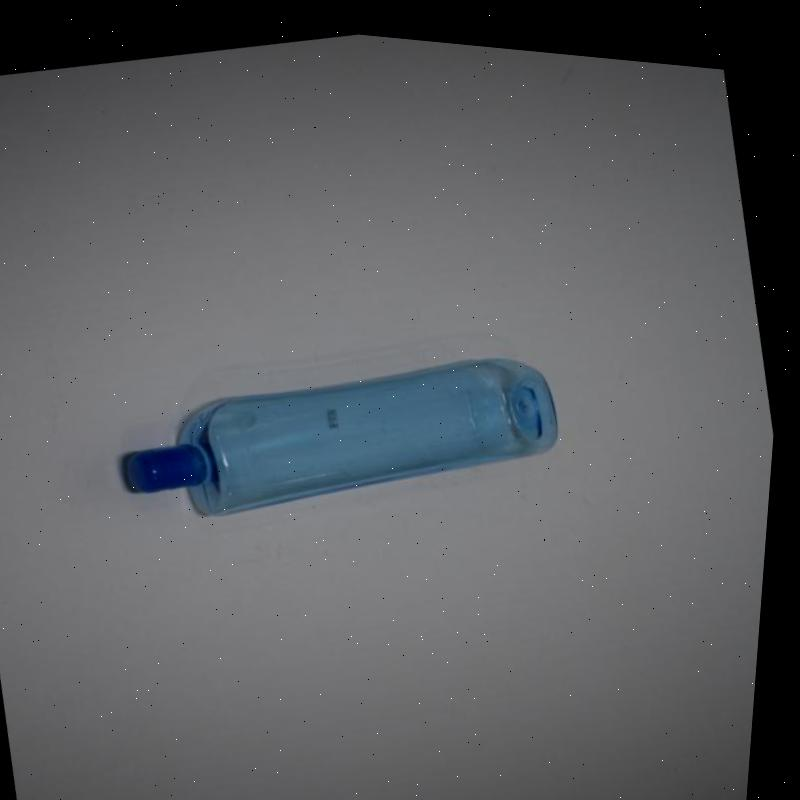botella: (119, 309, 575, 554)
